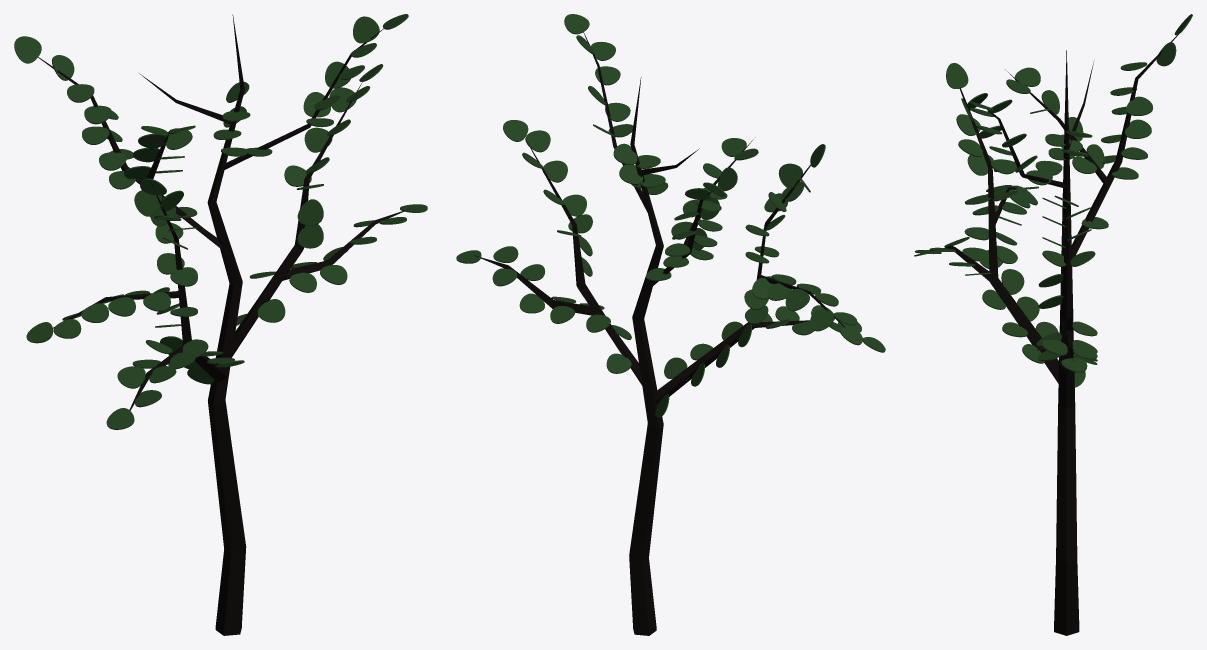
The model's file is EUKALIP.fbx.
The picture shows the model from 3 angles, left to right: view 1: azimuth 30°, elevation 25°; view 2: azimuth 150°, elevation 25°; view 3: azimuth 270°, elevation 25°; orthographic projection. The views are drawn at different scales.
Visible parts, largest first — view 1: Cylinder001; view 2: Cylinder001; view 3: Cylinder001.
Boxes of the visible parts, x1=… form: Cylinder001: x1=14, y1=14, x2=427, y2=635; Cylinder001: x1=456, y1=14, x2=885, y2=635; Cylinder001: x1=914, y1=14, x2=1192, y2=635.
Bounding box in the file's own units: 214 × 299 × 129.
